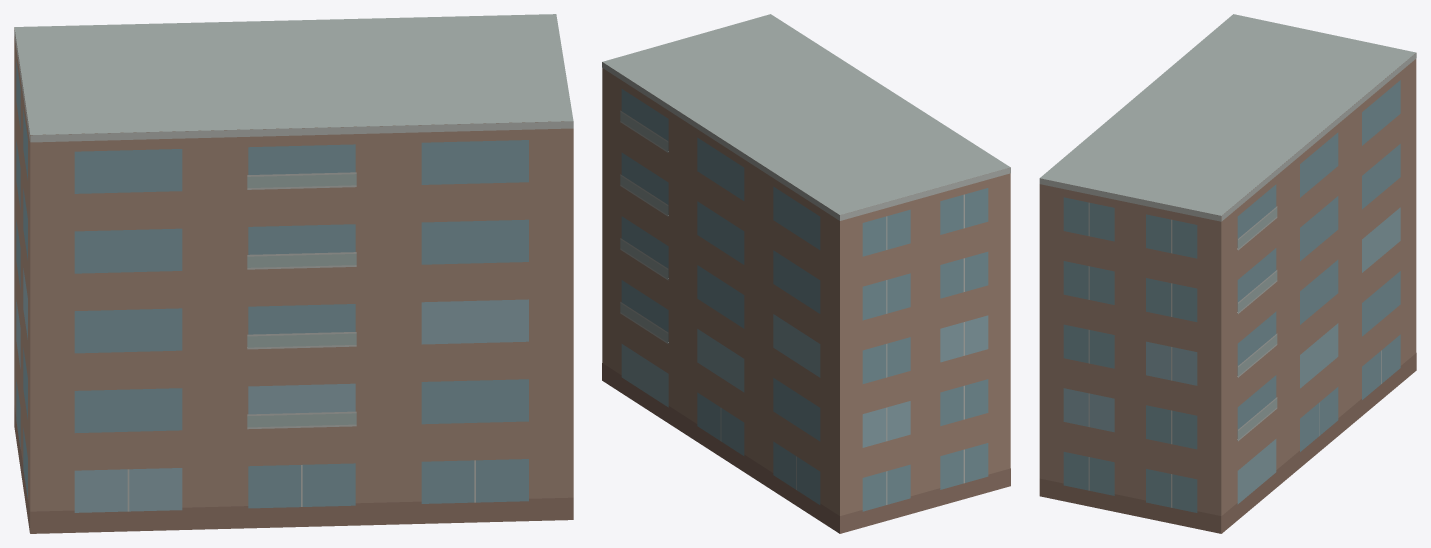
Rendered from survey-upis-32990798.glb.
3 views of the same model, side by side, from view 1: azimuth 30°, elevation 25°; view 2: azimuth 150°, elevation 25°; view 3: azimuth 270°, elevation 25° (orthographic). The views are drawn at different scales.
Visible parts, largest first — view 1: survey-upis-32990798.tmp; view 2: survey-upis-32990798.tmp; view 3: survey-upis-32990798.tmp.
Boxes of the visible parts, box(x1,y1,x2,y2) form: survey-upis-32990798.tmp: box(14, 14, 573, 533); survey-upis-32990798.tmp: box(602, 14, 1010, 533); survey-upis-32990798.tmp: box(1039, 14, 1416, 533).
Size of the model in its own units: 17.98 by 13.2 by 14.18.
